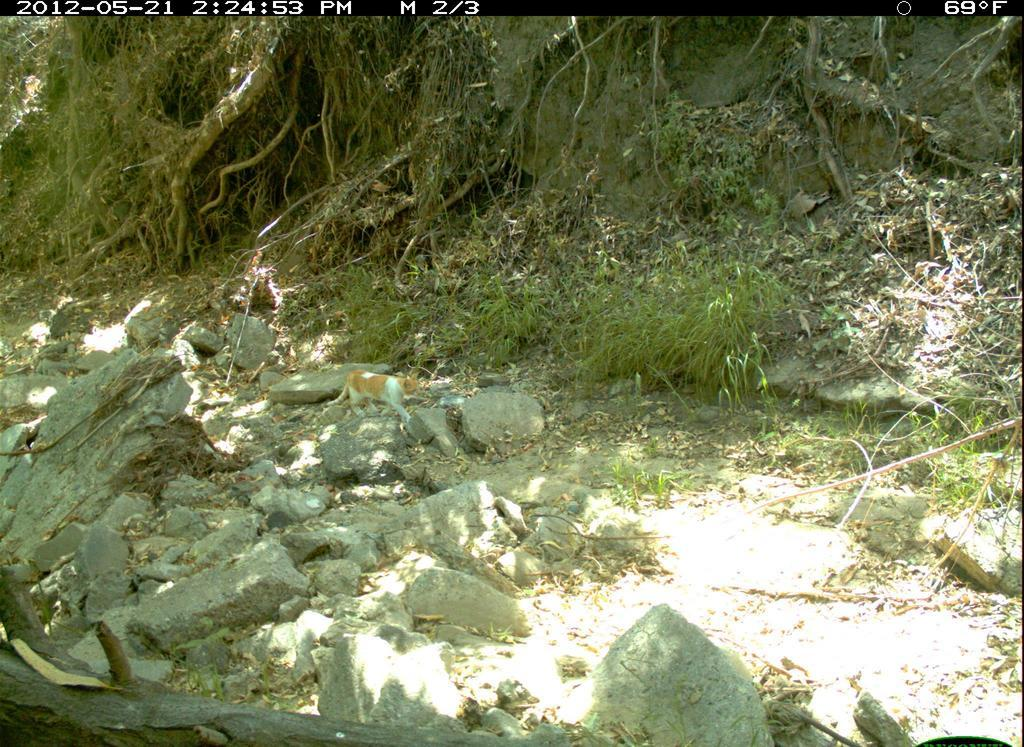cat: (323, 359, 431, 434)
